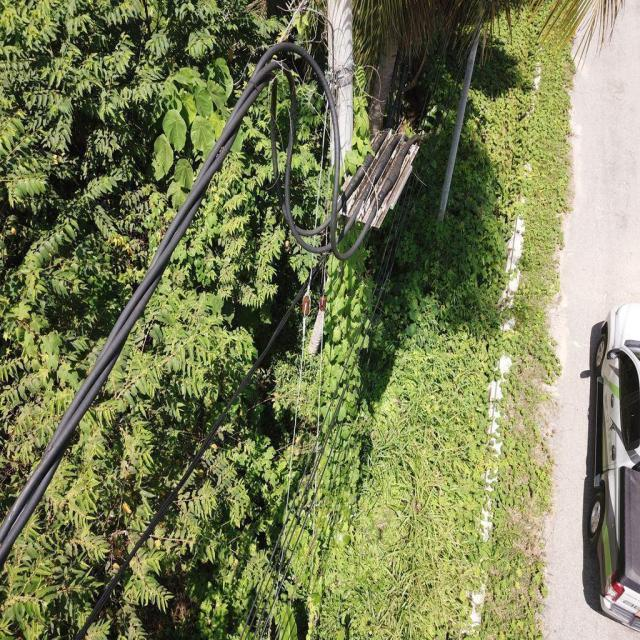critical vegetation: (306, 55, 373, 499)
